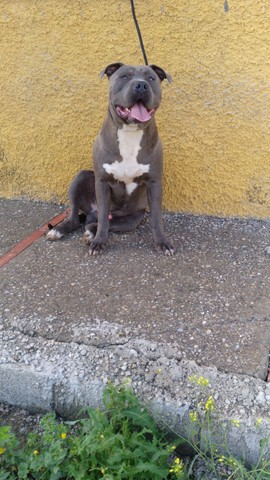Perro Pitbull: (62, 47, 176, 286)
